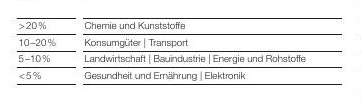table: (0, 0, 361, 102)
